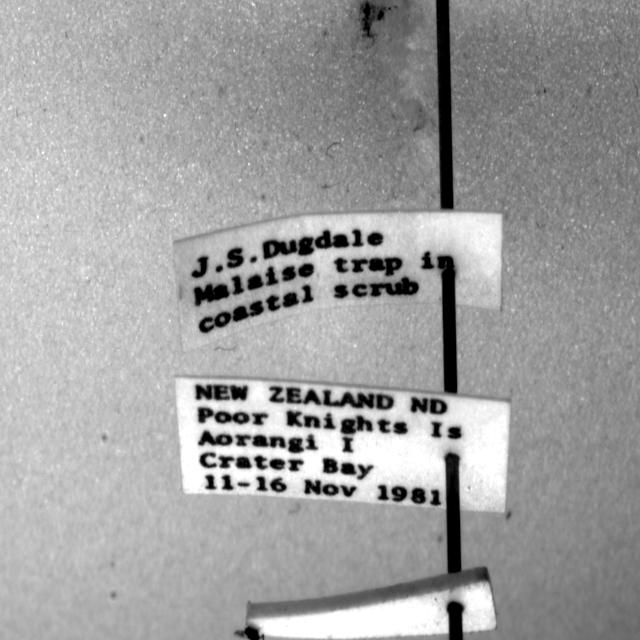typed_label: (174, 210, 502, 351), (175, 377, 510, 512)
